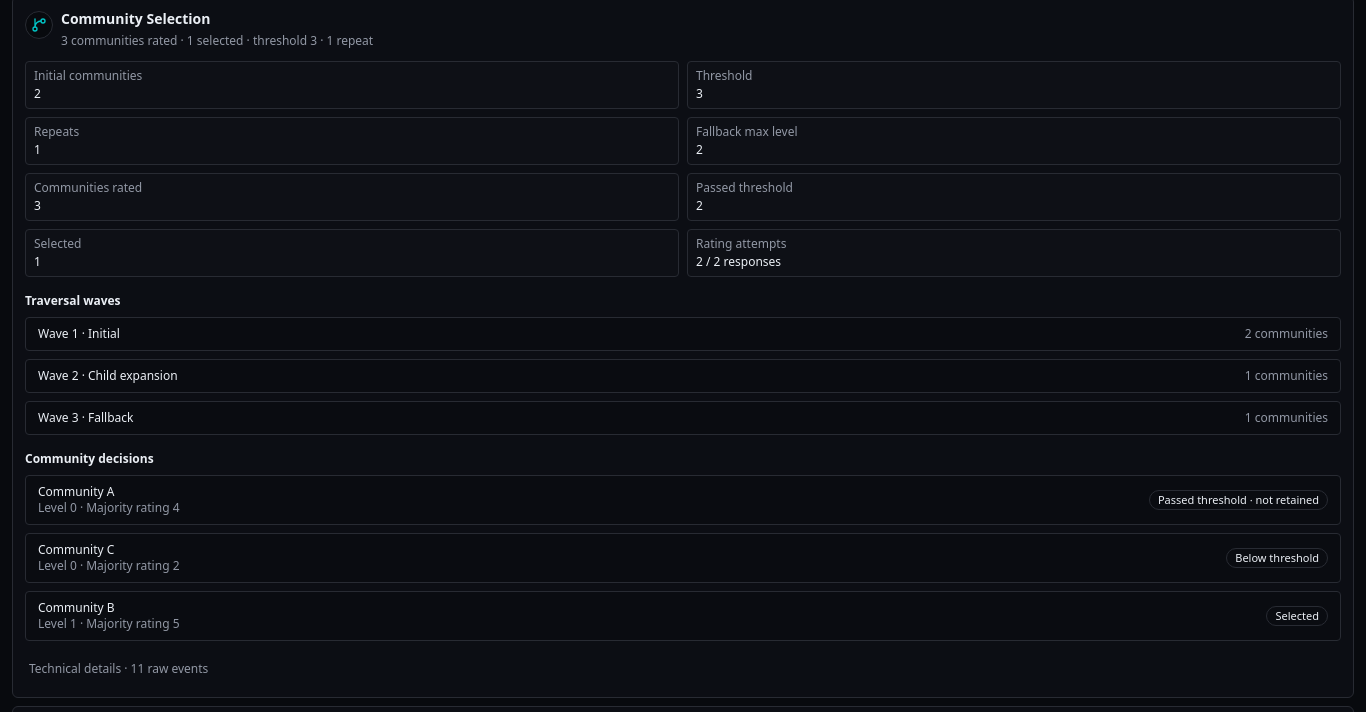
Test case: Global Timeline › shows rating content as not captured in Metadata mode
Click the button with aria-label "Expand rating details for community A" at {"x": 72, "y": 492}, box 26,476 -> 1340,524
(page scrolled)
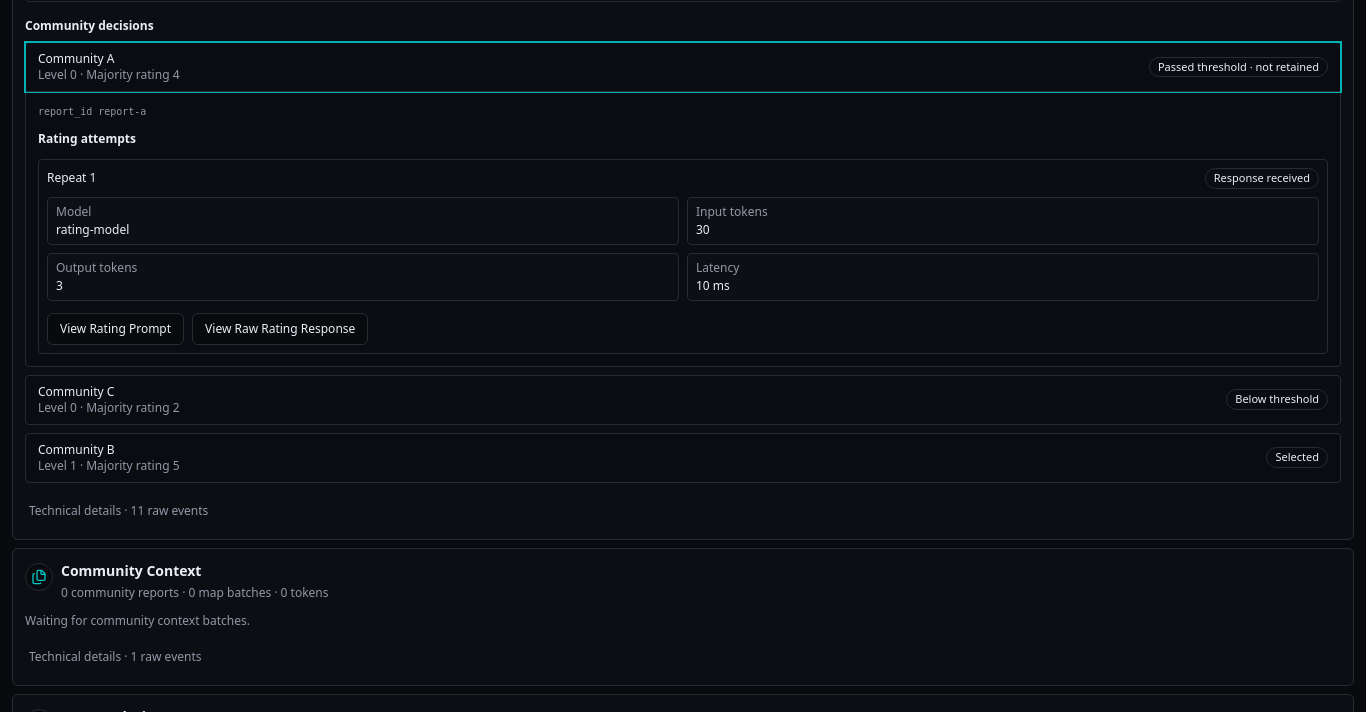
Click the button "View Rating Prompt" at {"x": 116, "y": 329}, box 47,313 -> 184,345
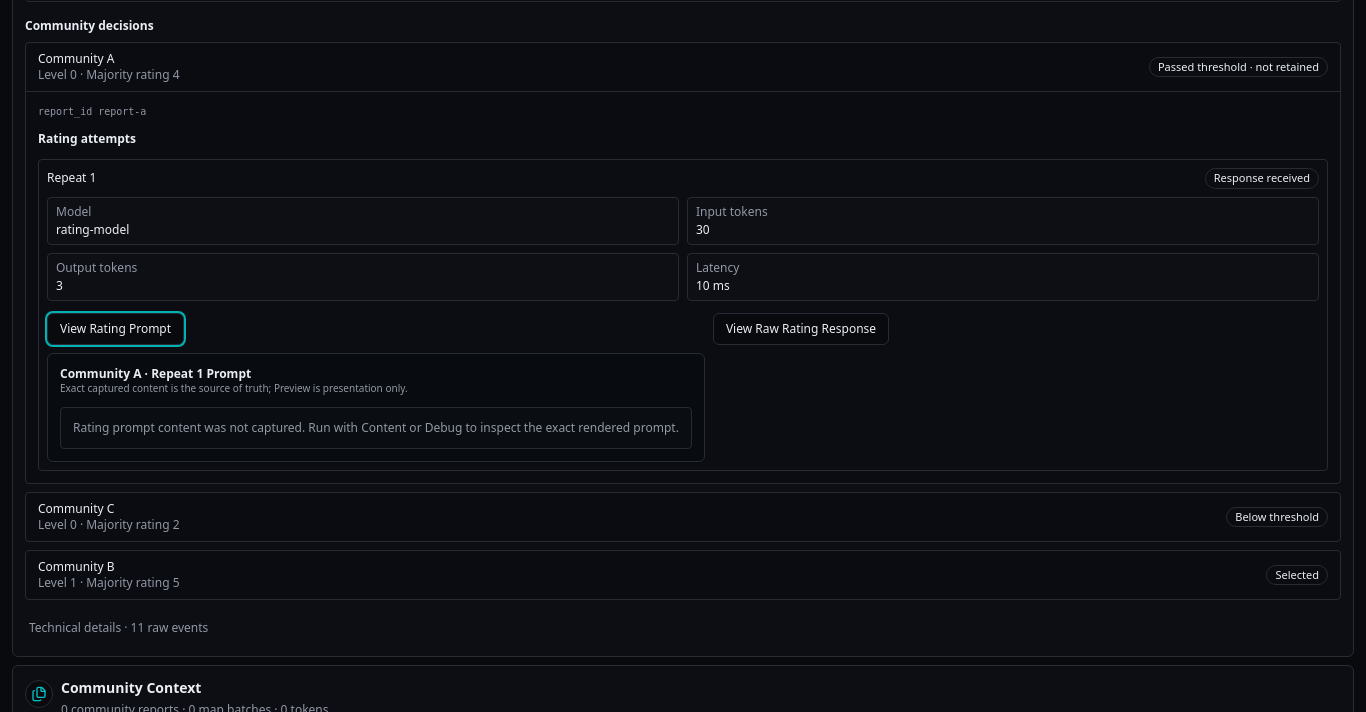
Check: the text "Rating prompt content was not captured" is shown, box 73,419 -> 679,436
Click the button "View Raw Rating Response" at {"x": 801, "y": 329}, box 713,313 -> 889,345
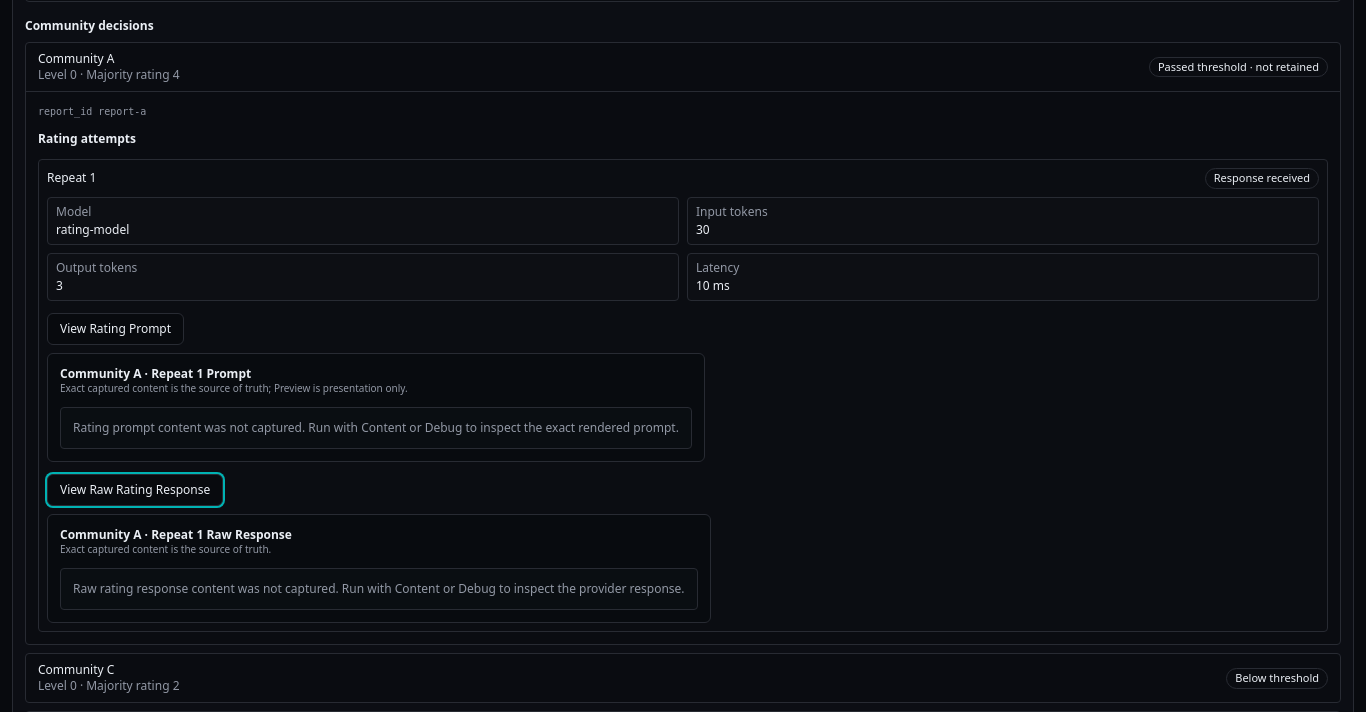
Check: the text "Raw rating response content was not captured" is shown, box 73,580 -> 685,597
